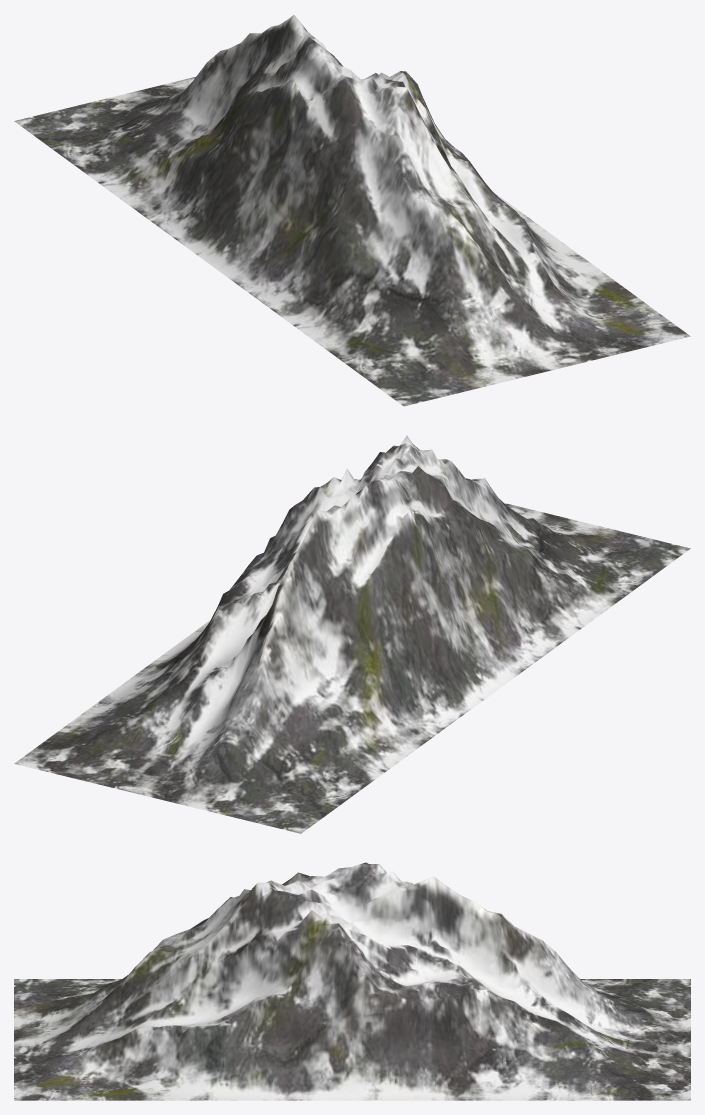
File: mountain.glb
3 renders of one model, top to bottom at view 1: azimuth 30°, elevation 25°; view 2: azimuth 150°, elevation 25°; view 3: azimuth 270°, elevation 25°, orthographic. The views are drawn at different scales.
Parts seen in each view (by area): view 1: Object_2; view 2: Object_2; view 3: Object_2.
Part boxes in pixels (<box>): Object_2: <box>14,15,690,406</box>; Object_2: <box>14,435,690,833</box>; Object_2: <box>14,862,690,1100</box>.
Bounding box in the file's own units: 600 × 376 × 1411.
Materials: 1 (1 with a texture image).
